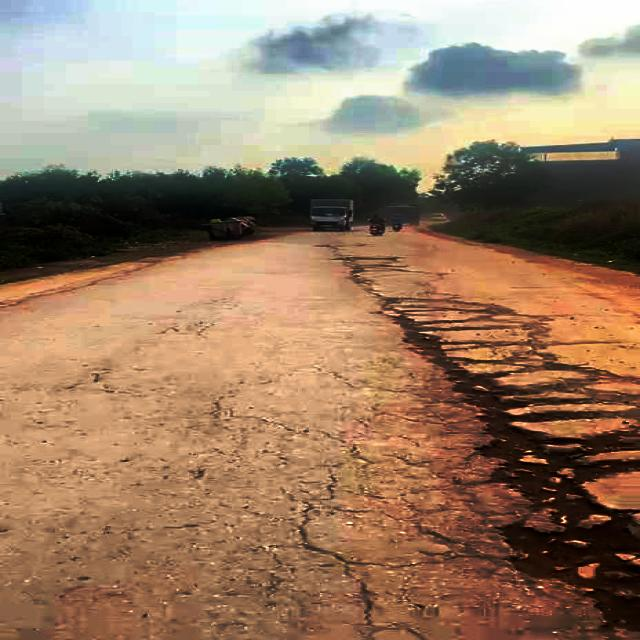pothole: (393, 336, 640, 630)
